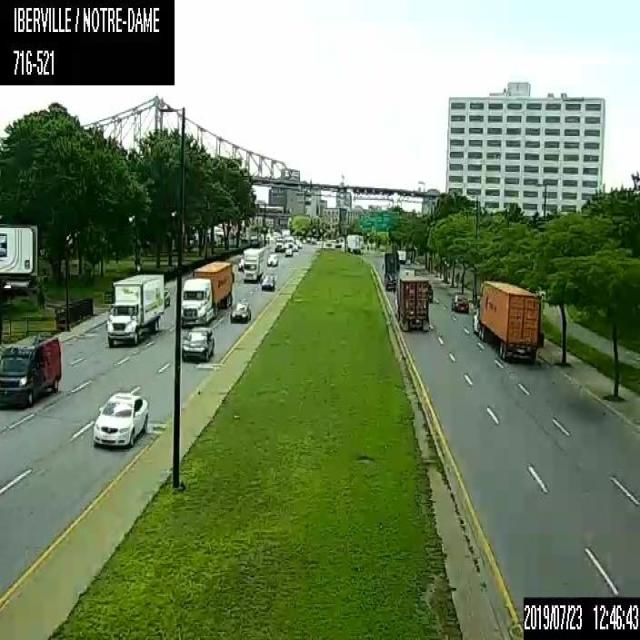vehicle: (471, 278, 540, 362), (0, 331, 61, 405), (105, 270, 163, 346), (180, 259, 233, 325), (91, 389, 149, 447), (393, 274, 428, 330), (180, 327, 214, 360), (242, 246, 264, 282), (381, 252, 398, 290), (230, 302, 250, 323), (450, 291, 468, 312), (346, 233, 363, 252), (261, 274, 274, 290), (273, 237, 286, 251), (266, 253, 278, 264), (163, 288, 169, 306), (237, 256, 243, 270), (428, 282, 432, 301), (284, 247, 291, 255), (292, 243, 298, 250)
